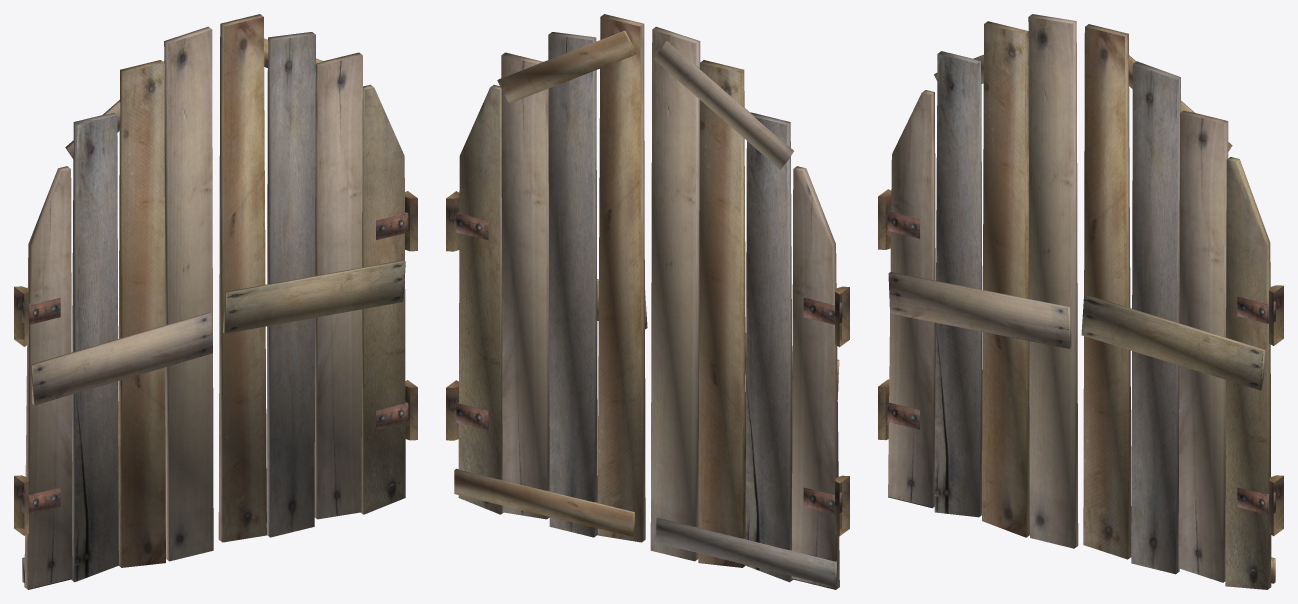
Rendered from DoorWood2.fbx.
3 renders of one model, left to right at view 1: azimuth 30°, elevation 25°; view 2: azimuth 150°, elevation 25°; view 3: azimuth 330°, elevation 25°, orthographic.
Visible parts, largest first — view 1: Door Left, Door Right, Doorstuff; view 2: Door Right, Door Left, Doorstuff; view 3: Door Right, Door Left, Doorstuff.
Boxes of the visible parts, x1,y1,x2,y2 form: Door Left: (22, 26, 213, 589); Door Right: (218, 14, 408, 542); Doorstuff: (14, 191, 417, 535); Door Right: (454, 14, 647, 542); Door Left: (650, 26, 842, 589); Doorstuff: (446, 191, 849, 536); Door Right: (1081, 24, 1275, 589); Door Left: (887, 14, 1078, 548); Doorstuff: (878, 189, 1283, 536).
Bounding box in the file's own units: 29.09 × 36.9 × 1.3.
1 material, 1 textured.
